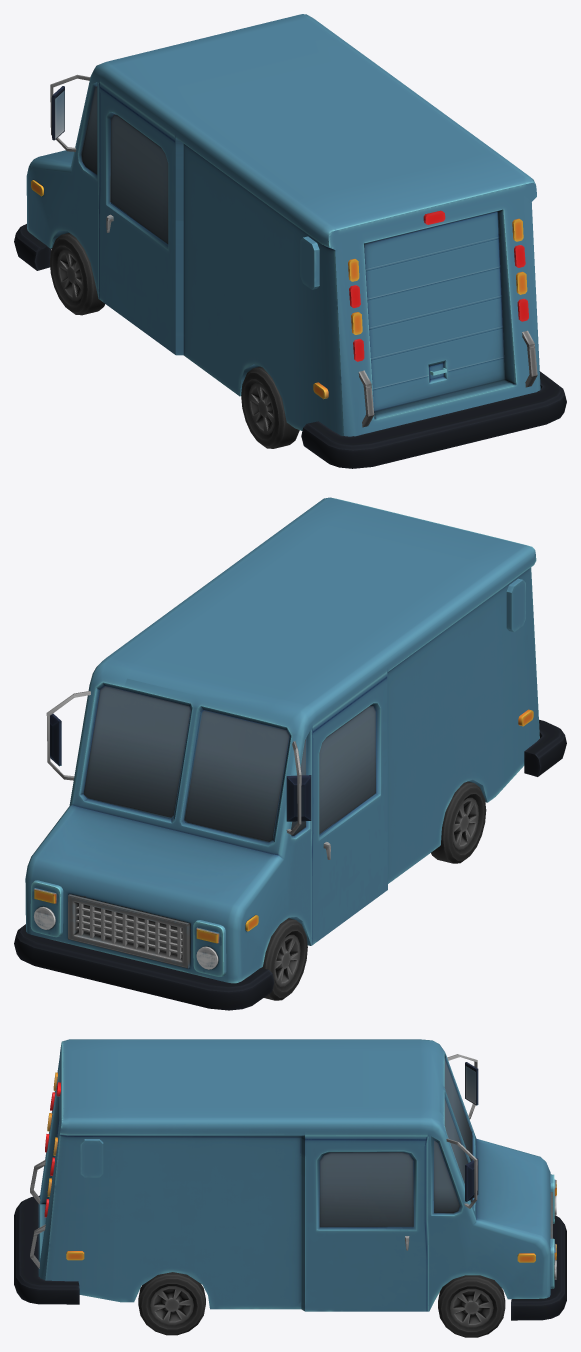
File: truck_parts.glb
The picture shows the model from 3 angles, top to bottom: view 1: azimuth 30°, elevation 25°; view 2: azimuth 150°, elevation 25°; view 3: azimuth 270°, elevation 25°; orthographic projection. The views are drawn at different scales.
Parts seen in each view (by area): view 1: Truck, TruckDoor; view 2: Truck; view 3: Truck.
Boxes of the visible parts, bbox=[...] form: Truck: bbox=[14, 14, 566, 468]; TruckDoor: bbox=[364, 211, 505, 411]; Truck: bbox=[14, 497, 566, 1010]; Truck: bbox=[14, 1039, 566, 1337].
Bounding box in the file's own units: 4.76 × 4.63 × 10.72.
Materials: 2 (1 with a texture image).
